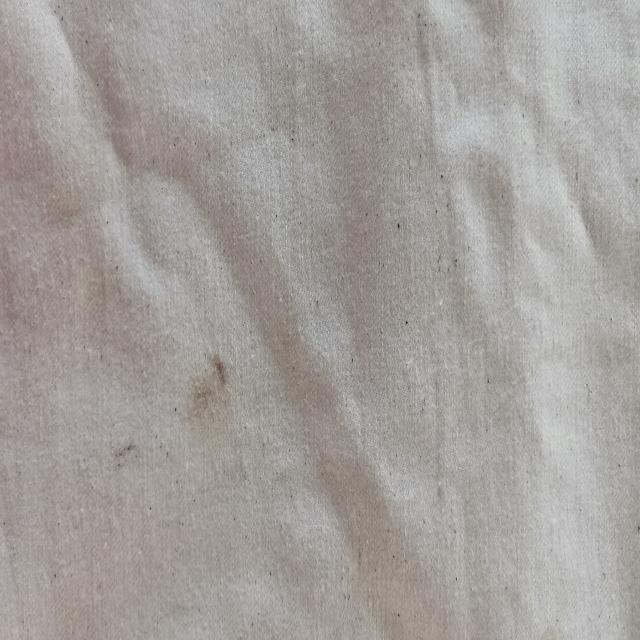taaaches: (184, 340, 230, 450), (106, 429, 140, 489)
